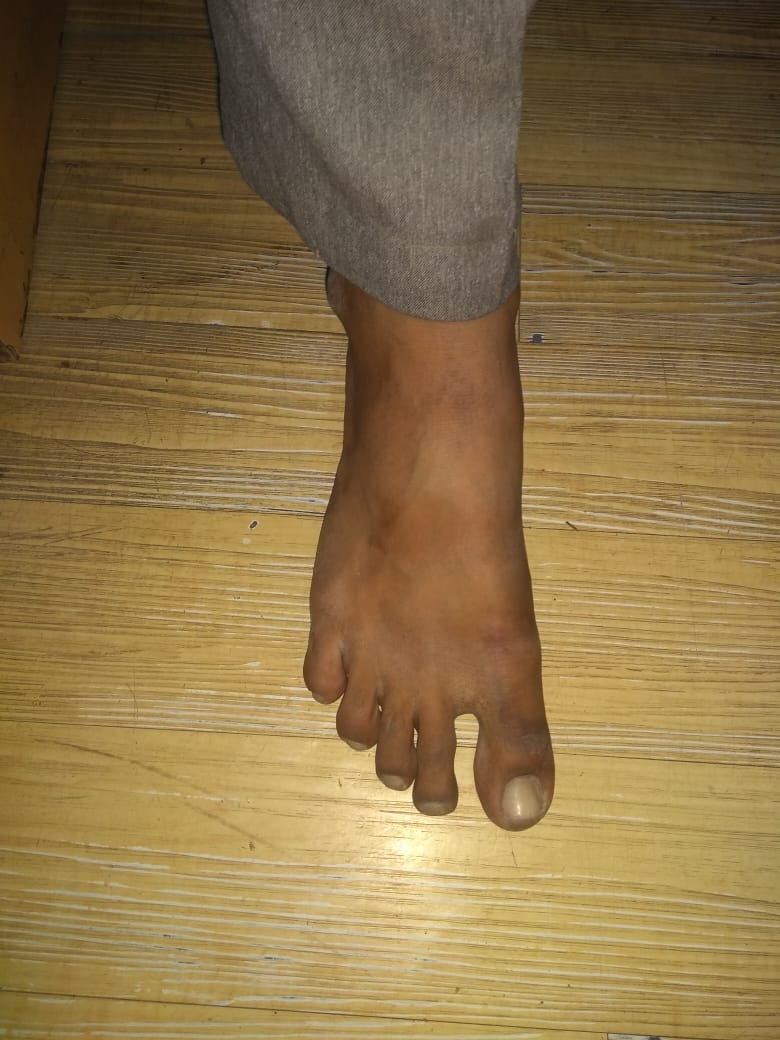feet: (265, 183, 563, 833)
